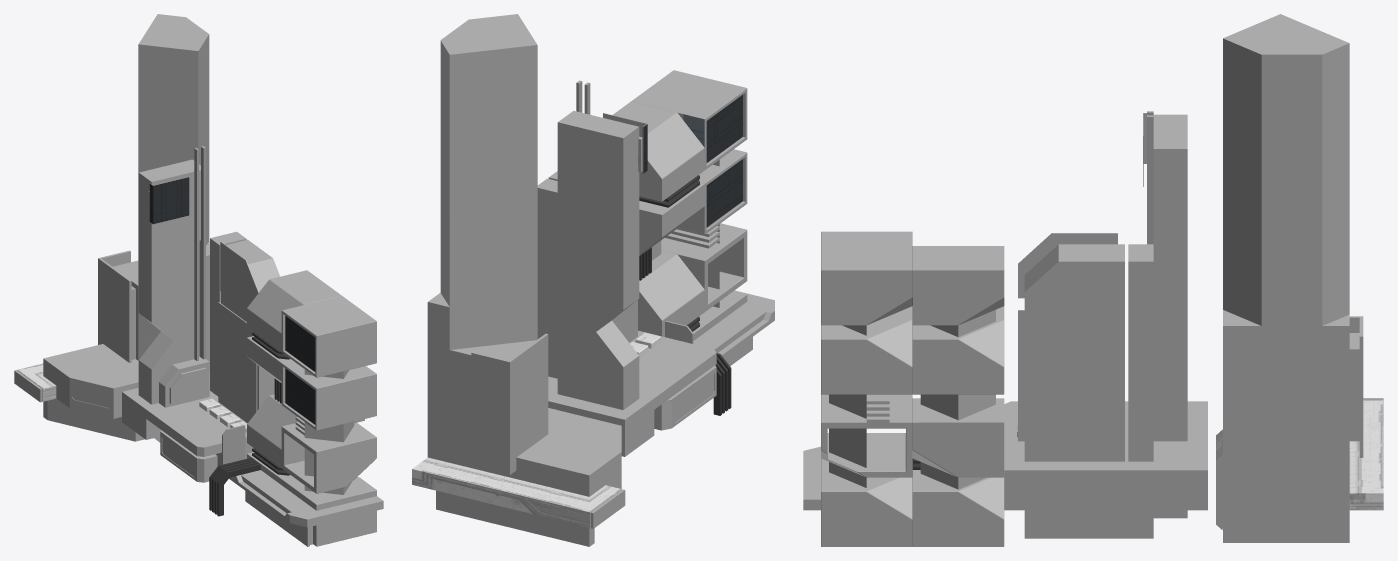
File: XNF_02_UV6.fbx
The picture shows the model from 3 angles, left to right: view 1: azimuth 30°, elevation 25°; view 2: azimuth 150°, elevation 25°; view 3: azimuth 270°, elevation 25°; orthographic projection. The views are drawn at different scales.
Parts seen in each view (by area): view 1: XNR_02_UV6; view 2: XNR_02_UV6; view 3: XNR_02_UV6.
Part boxes in pixels (x1,y1,x2,y2): XNR_02_UV6: (14, 14, 383, 546); XNR_02_UV6: (412, 14, 774, 546); XNR_02_UV6: (803, 14, 1383, 546).
Bounding box in the file's own units: 34.35 × 80 × 85.42.
Materials: 12 (12 with a texture image).
